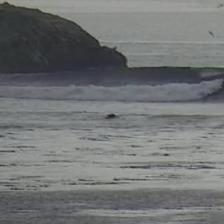surfer: (106, 113, 116, 118)
